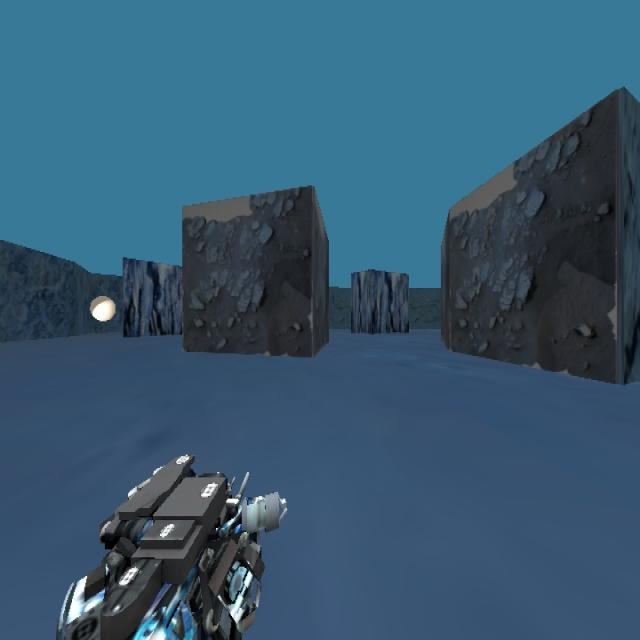Circle: (89, 294, 115, 322)
